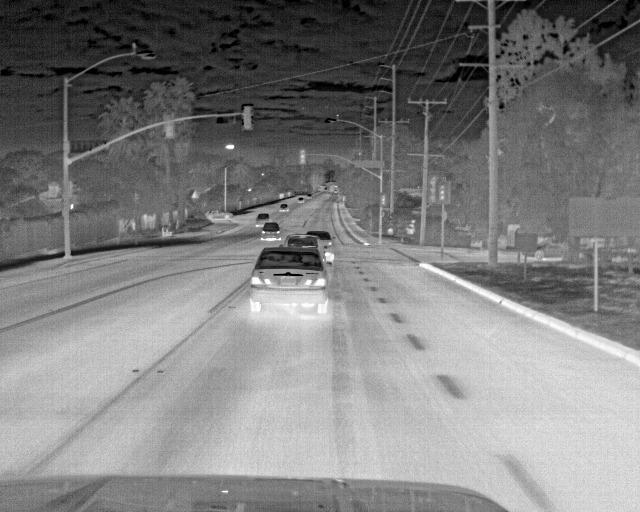car: (249, 247, 332, 313), (280, 233, 328, 267), (521, 236, 586, 259), (306, 230, 337, 259), (261, 222, 281, 241), (205, 210, 234, 220), (256, 213, 270, 228), (279, 204, 289, 211), (297, 197, 304, 203), (307, 194, 312, 199), (334, 190, 337, 193)
light: (430, 178, 437, 202), (47, 184, 58, 198), (69, 179, 78, 196), (166, 116, 173, 137), (245, 107, 251, 129), (439, 184, 445, 201), (300, 150, 306, 164), (381, 194, 385, 205)
sign: (570, 197, 639, 236), (69, 139, 110, 154), (355, 161, 384, 167)
